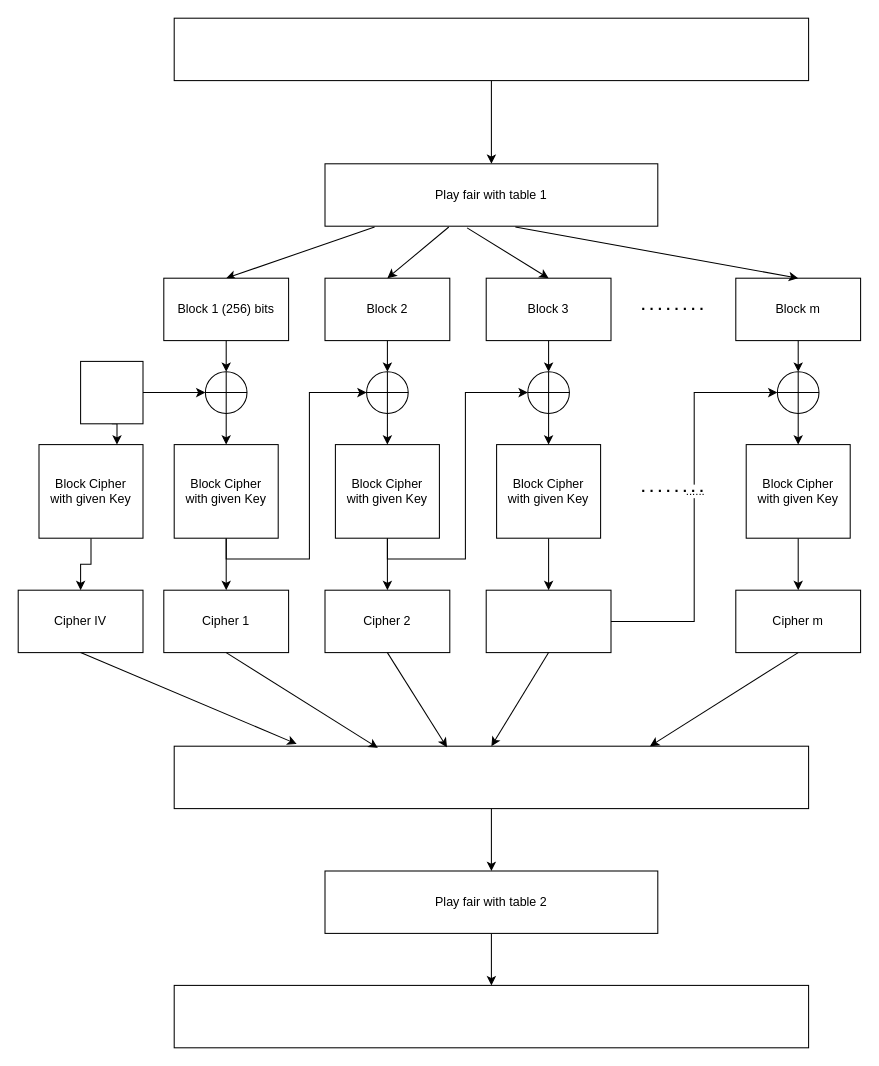
Image size: 879x1066. Some labels were removed from this diagram. The shapes that lost their labels are listed below. From the top down, each one's centre as x and y in pixels, then its label:
(x=491, y=49): Plain Text (n bits)
(x=111, y=392): IV
(x=548, y=621): Cipher 3
(x=491, y=777): assembled ( ~ n bits)
(x=491, y=1016): Cipher Text ( ~ n bits)
